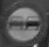No overtake: (3, 3, 46, 40)
